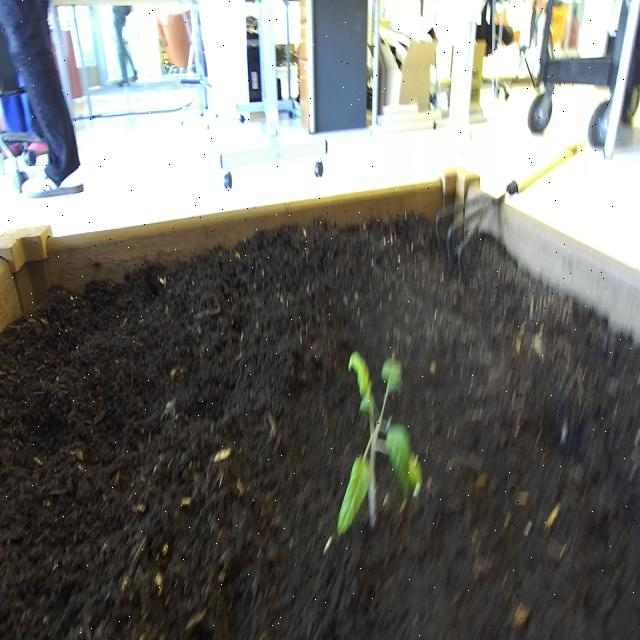Healthy: (334, 342, 428, 550)
